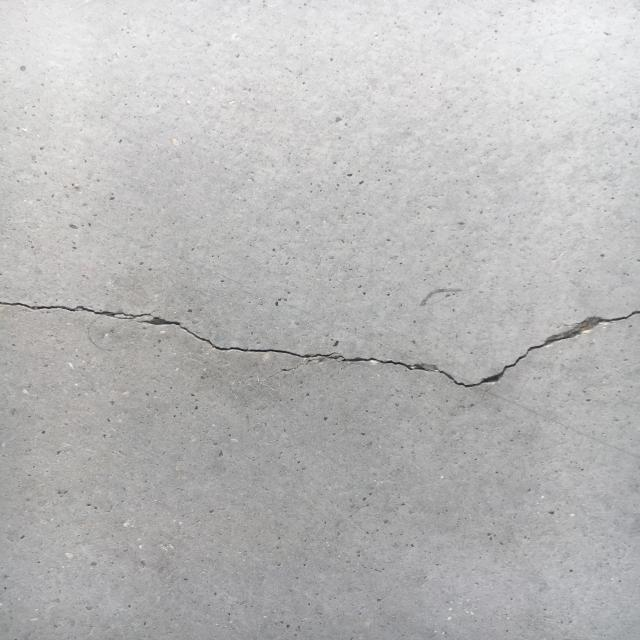Rachadura: (0, 297, 640, 394)
